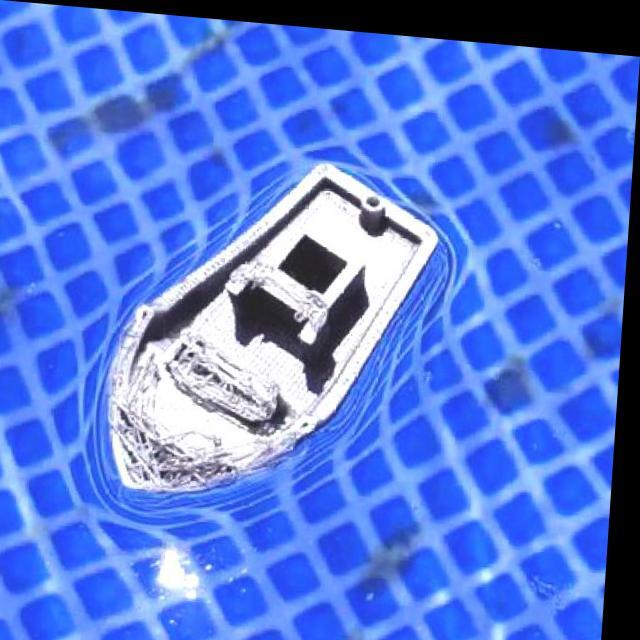spaghetti: (114, 328, 287, 497), (233, 252, 336, 325)
